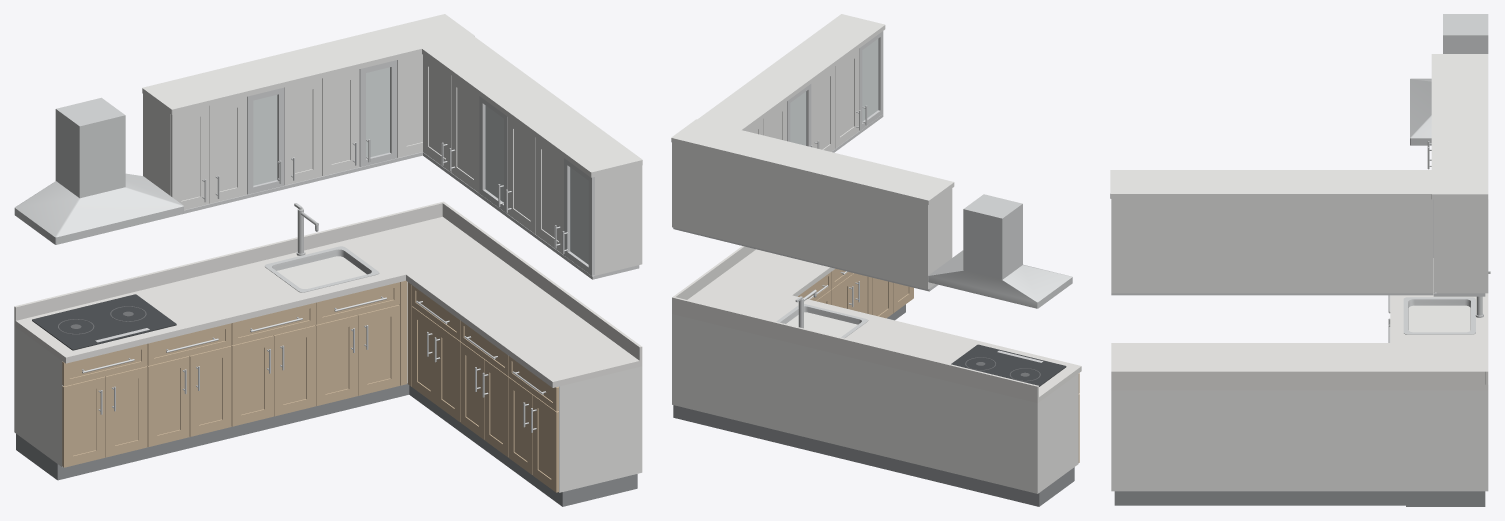
3 renders of one model, left to right at view 1: azimuth 30°, elevation 25°; view 2: azimuth 150°, elevation 25°; view 3: azimuth 270°, elevation 25°, orthographic. The views are drawn at different scales.
Visible parts, largest first — view 1: Tủ bếp chữ L Dài cạnh chính=3000; Dài cạnh phụ=2400; Sâu tủ ; view 2: Tủ bếp chữ L Dài cạnh chính=3000; Dài cạnh phụ=2400; Sâu tủ ; view 3: Tủ bếp chữ L Dài cạnh chính=3000; Dài cạnh phụ=2400; Sâu tủ .
Part boxes in pixels (box(x1,y1,x2,y2)): Tủ bếp chữ L Dài cạnh chính=3000; Dài cạnh phụ=2400; Sâu tủ : box(14, 14, 642, 506); Tủ bếp chữ L Dài cạnh chính=3000; Dài cạnh phụ=2400; Sâu tủ : box(671, 14, 1081, 506); Tủ bếp chữ L Dài cạnh chính=3000; Dài cạnh phụ=2400; Sâu tủ : box(1110, 14, 1490, 506).
Bounding box in the file's own units: 3.01 × 2.2 × 2.42.
